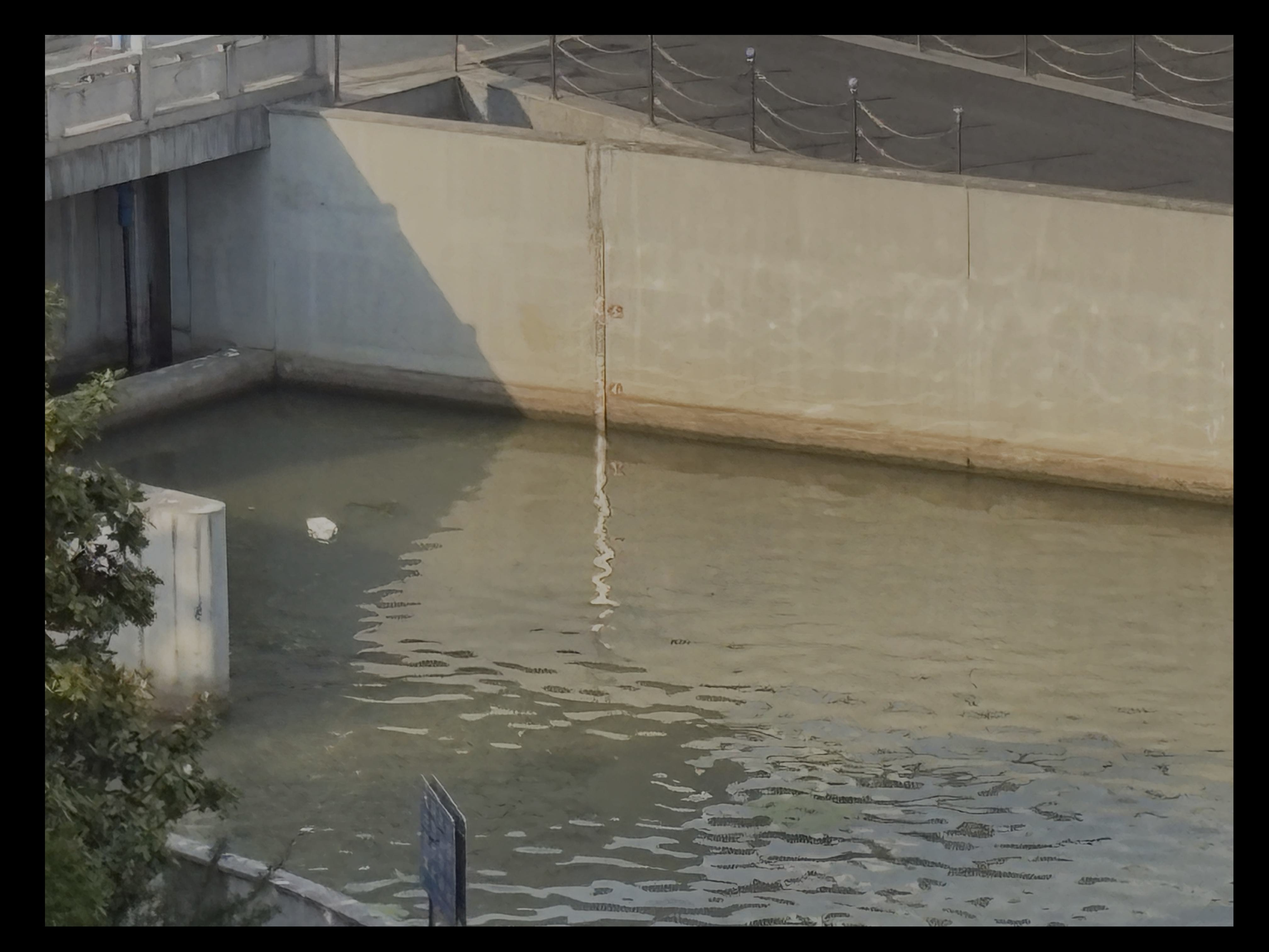Plastic wastes: (304, 518, 339, 542)
